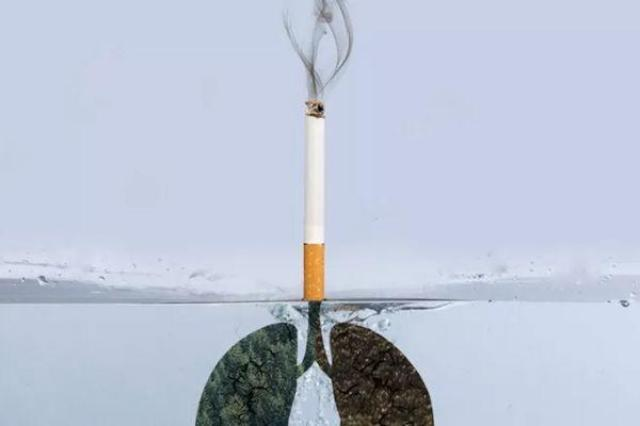Smoking: (304, 99, 326, 301)
